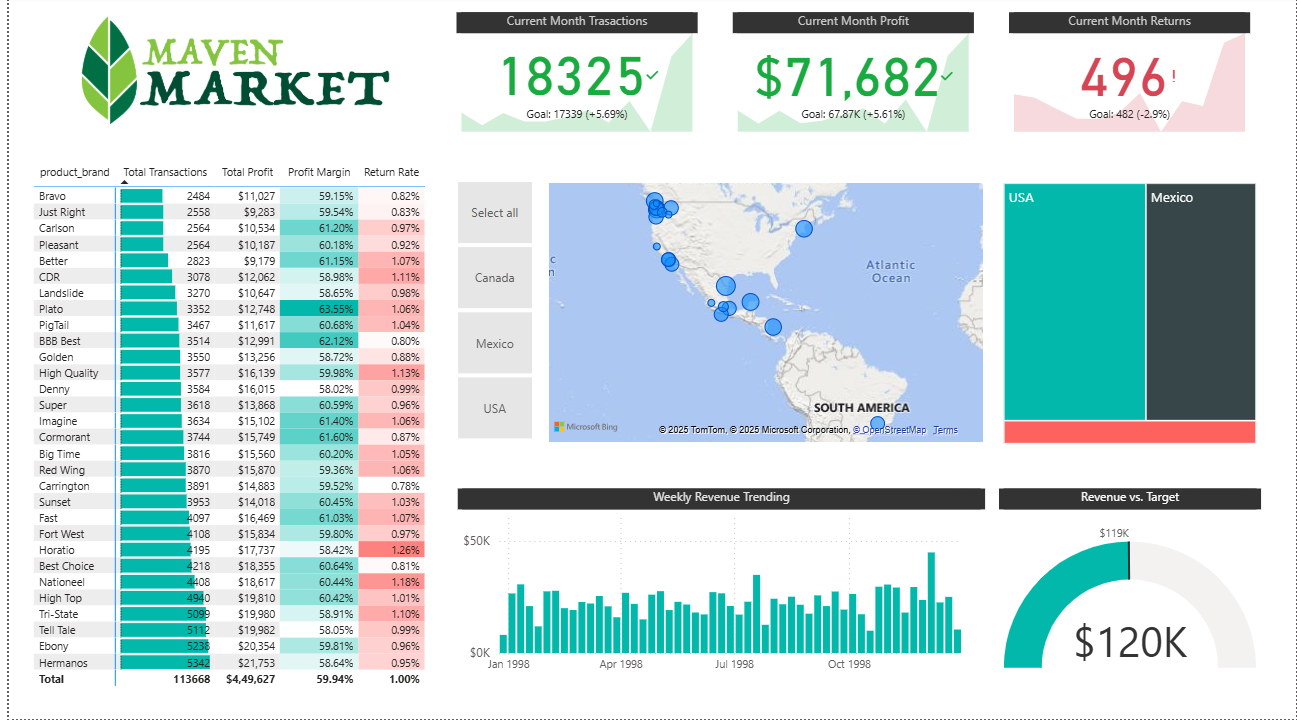

The dashboard page shown, as its layout file describes it:
{"tool":"powerbi","page":{"name":"Topline Performance","canvas":[1280,720],"ordinal":0},"visuals":[{"type":"image","box":[19.6,6.9,407.7,132.4],"z":0},{"type":"pivotTable","fields":{"Rows":["Products.product_brand"],"Values":["Measures Table.Total Transactions","Measures Table.Total Profit","Measures Table.Profit Margin","Measures Table.Return Rate"]},"box":[19.6,161.2,400.7,535.5],"z":1000},{"type":"kpi","title":"Current Month Trasactions","fields":{"TrendLine":["Calendar.Start of Month"],"Goal":["Measures Table.Last Month Transactions"],"Indicator":["Measures Table.Total Transactions"]},"box":[445,16.4,240,124],"z":2000},{"type":"kpi","title":"Current Month Profit","fields":{"TrendLine":["Calendar.Start of Month"],"Indicator":["Measures Table.Total Profit"],"Goal":["Measures Table.Last Month Profit"]},"box":[720.3,16.4,240,124.1],"z":3000},{"type":"kpi","title":"Current Month Returns","fields":{"TrendLine":["Calendar.Start of Month"],"Indicator":["Measures Table.Total Returns"],"Goal":["Measures Table.Last Month Returns"]},"box":[995.6,16.4,240,124.1],"z":4000},{"type":"map","fields":{"Category":["Stores.store_city"],"Size":["Measures Table.Total Transactions"]},"box":[532,182,442,266.7],"z":5000},{"type":"slicer","fields":{"Values":["Stores.store_country"]},"box":[420,178,124,269],"z":6000},{"type":"treemap","fields":{"Values":["Measures Table.Total Transactions"],"Group":["Stores.store_country","Stores.store_state","Stores.store_city"]},"box":[985,181.9,261,269],"z":7000},{"type":"clusteredColumnChart","title":"Weekly Revenue Trending","fields":{"Category":["Calendar.Start of Week"],"Y":["Measures Table.Total Revenue"]},"box":[446,490,525,192],"z":8000},{"type":"gauge","title":"Revenue vs. Target","fields":{"Y":["Measures Table.Total Revenue"],"TargetValue":["Measures Table.Revenue Target"]},"box":[985,490,261,192],"z":9000}]}

Visuals, with their boxes in screenshot pixels (x1, y1, x2, y2), scaled from the page's 1280x720 canvas onto the 1297x720 screenshot:
image: [x1=20, y1=7, x2=433, y2=139]
pivotTable - Products.product_brand x Measures Table.Total Transactions: [x1=20, y1=161, x2=426, y2=697]
"Current Month Trasactions" kpi: [x1=451, y1=16, x2=694, y2=140]
"Current Month Profit" kpi: [x1=730, y1=16, x2=973, y2=140]
"Current Month Returns" kpi: [x1=1009, y1=16, x2=1252, y2=140]
map - Stores.store_city x Measures Table.Total Transactions: [x1=539, y1=182, x2=987, y2=449]
slicer - Stores.store_country: [x1=426, y1=178, x2=551, y2=447]
treemap - Measures Table.Total Transactions x Stores.store_country: [x1=998, y1=182, x2=1263, y2=451]
"Weekly Revenue Trending" clusteredColumnChart: [x1=452, y1=490, x2=984, y2=682]
"Revenue vs. Target" gauge: [x1=998, y1=490, x2=1263, y2=682]
